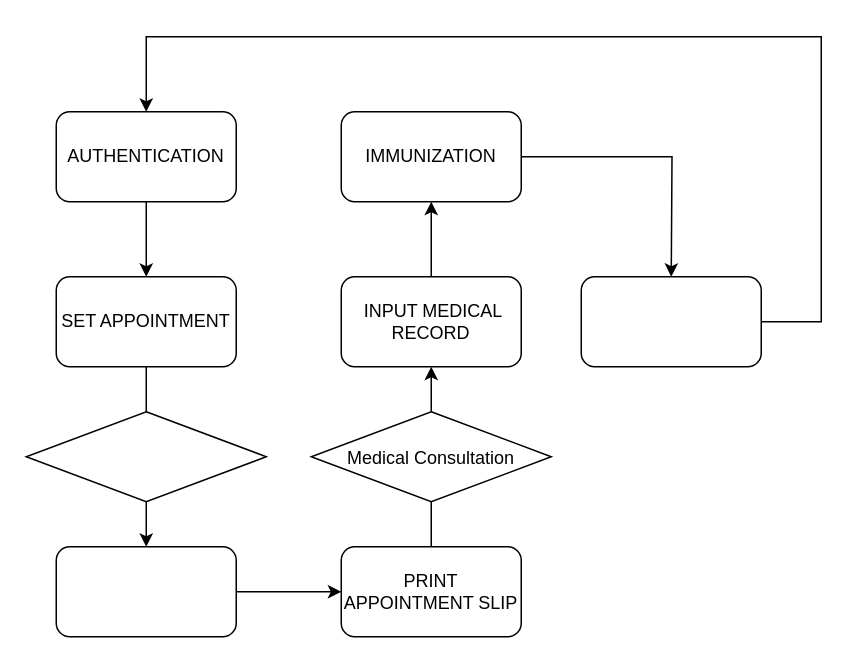
Some shapes in this 860 by 663 pixel diagram are drawn without their labels. The shapes that lost their labels are listed below. From the top down, each one's centre as x and y in pixels, then its label:
pixel 670 321: END SESSION
pixel 145 456: Approved Appointment
pixel 145 591: RECEIVE SMS NOTIFICATION
